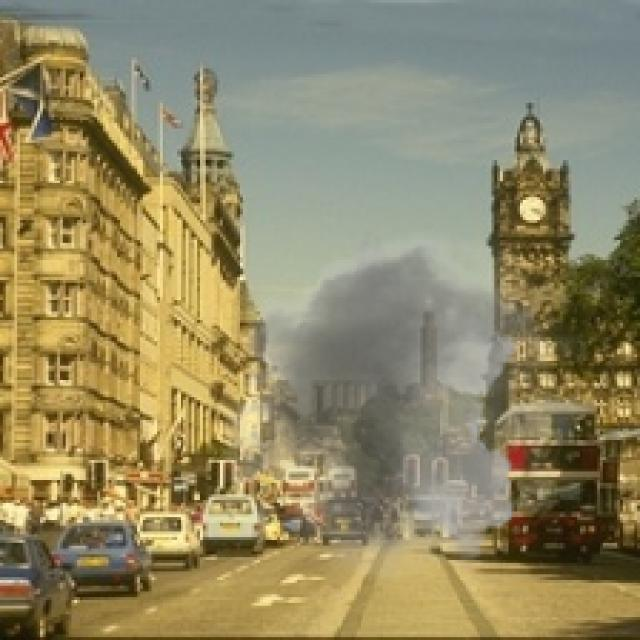smoke: (203, 217, 594, 583)
